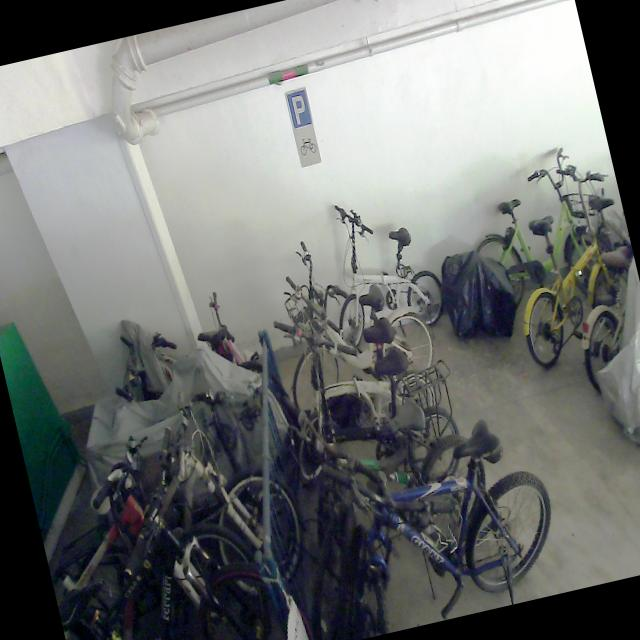bike: (43, 374, 315, 640), (273, 406, 569, 640), (24, 411, 281, 640), (286, 364, 500, 568), (258, 214, 441, 410), (266, 288, 448, 482), (488, 152, 640, 369), (453, 138, 622, 332), (312, 184, 452, 351)
